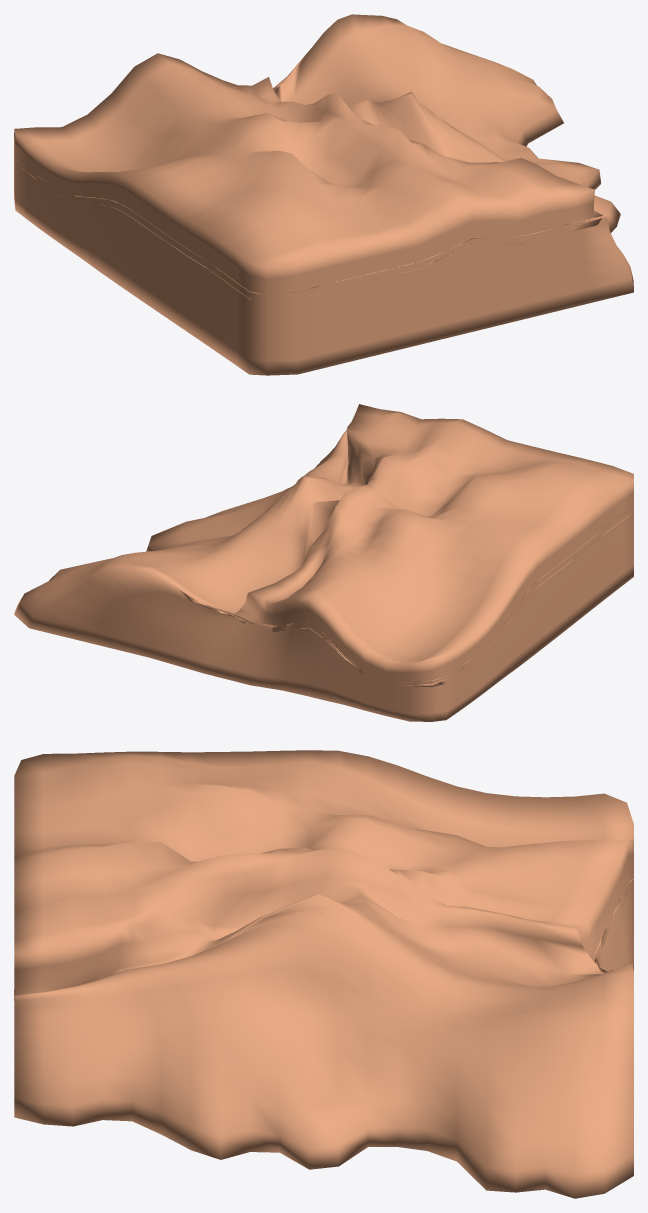
The model's file is vainilla_casi_vacio.fbx.
3 views of the same model, one above another, from view 1: azimuth 30°, elevation 25°; view 2: azimuth 150°, elevation 25°; view 3: azimuth 270°, elevation 25° (orthographic). The views are drawn at different scales.
Parts seen in each view (by area): view 1: Vainilla_Casi_Vacio; view 2: Vainilla_Casi_Vacio; view 3: Vainilla_Casi_Vacio.
Boxes of the visible parts, x1,y1,x2,y2 form: Vainilla_Casi_Vacio: (14,14,633,375); Vainilla_Casi_Vacio: (14,404,633,721); Vainilla_Casi_Vacio: (14,750,633,1198).
Bounding box in the file's own units: 224 × 62.49 × 189.
